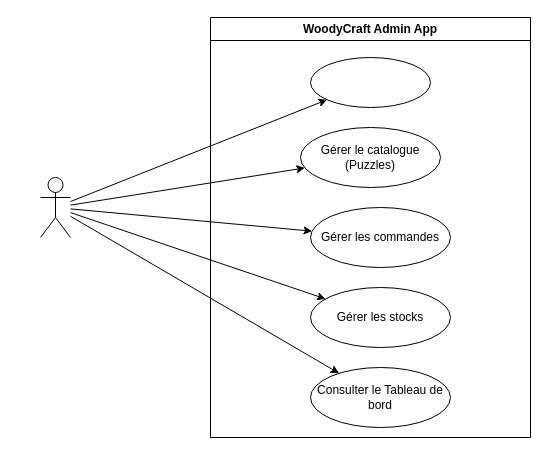
Image size: 548x455. Some labels were removed from this diagram. The shapes that lost their labels are listed below. From the top down, each one's centre as x and y in pixels, then its label:
(370,82): S'authentifier
(55,207): Administrateur
